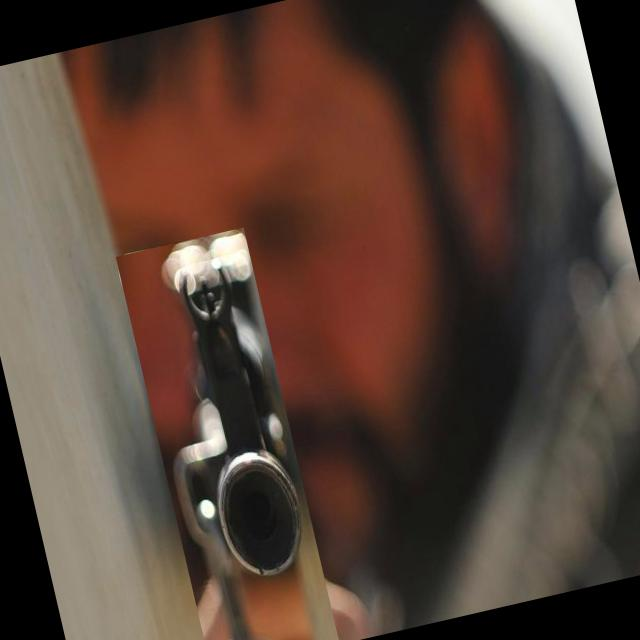Gun: (162, 230, 301, 640)
